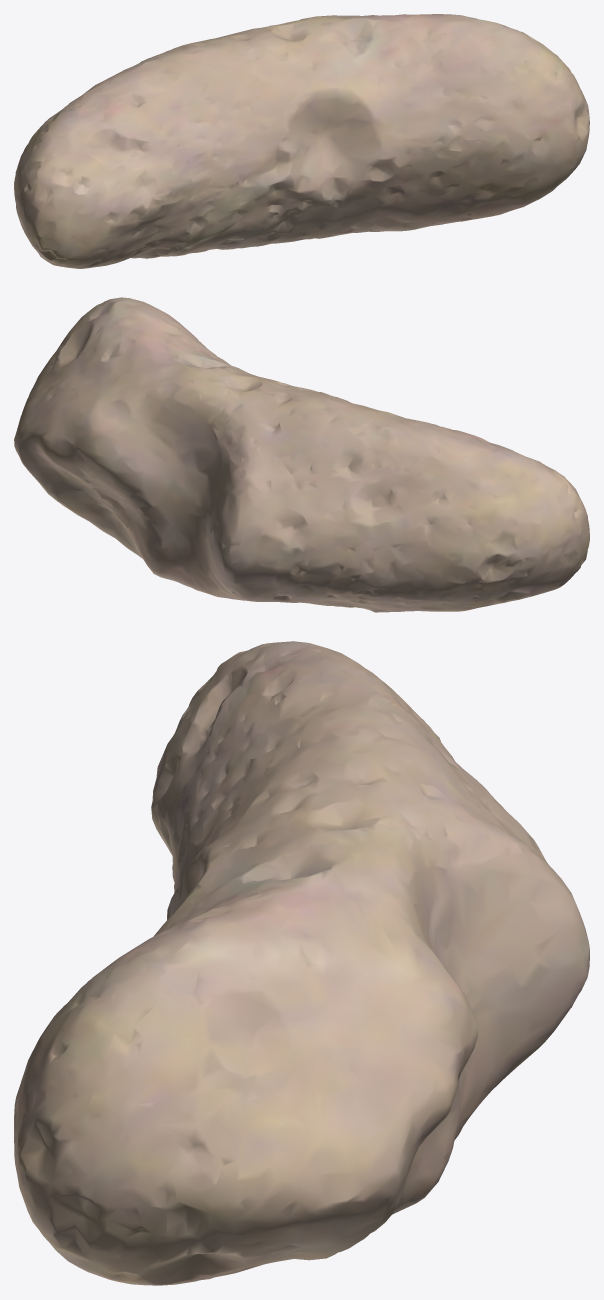
Rendered from eros_shape_2k.glb.
3 views of the same model, one above another, from view 1: azimuth 30°, elevation 25°; view 2: azimuth 150°, elevation 25°; view 3: azimuth 270°, elevation 25° (orthographic). The views are drawn at different scales.
Visible parts, largest first — view 1: eros; view 2: eros; view 3: eros.
Part boxes in pixels (x1,y1,x2,y2): eros: (14,14,589,268); eros: (14,297,589,612); eros: (14,641,589,1285).
Bounding box in the file's own units: 32.66 × 11.94 × 16.88.
